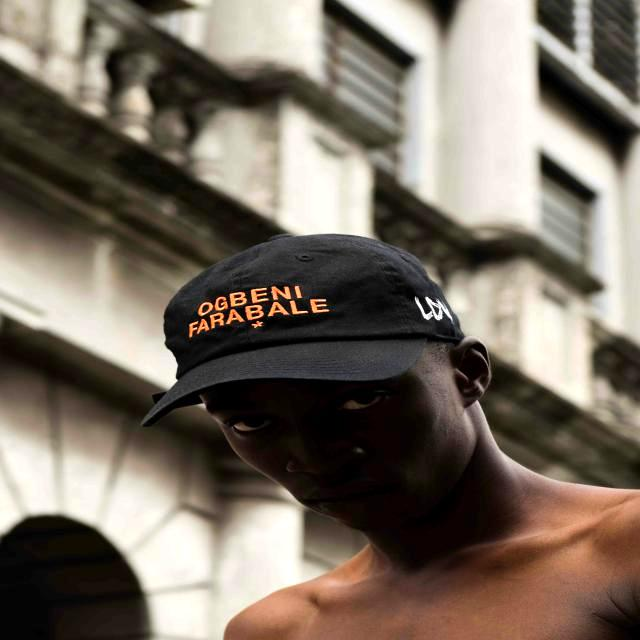no_hard_hat: (143, 234, 464, 426)
person: (142, 234, 640, 640)
